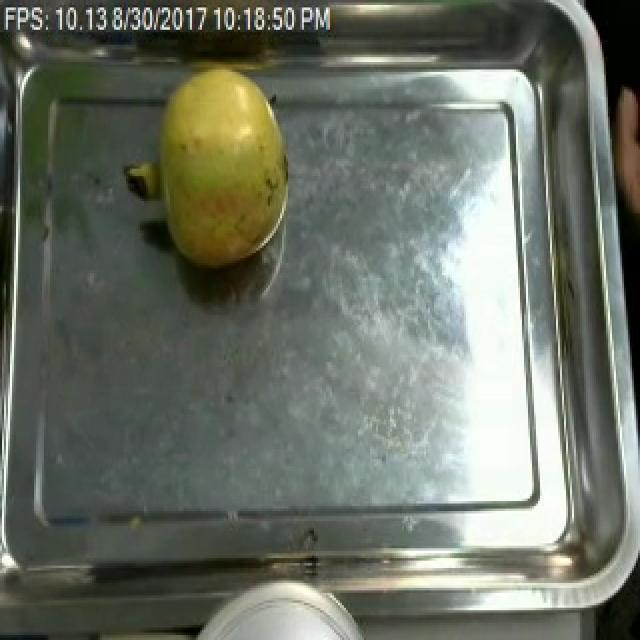fruit: (118, 59, 300, 276), (172, 585, 376, 640)
